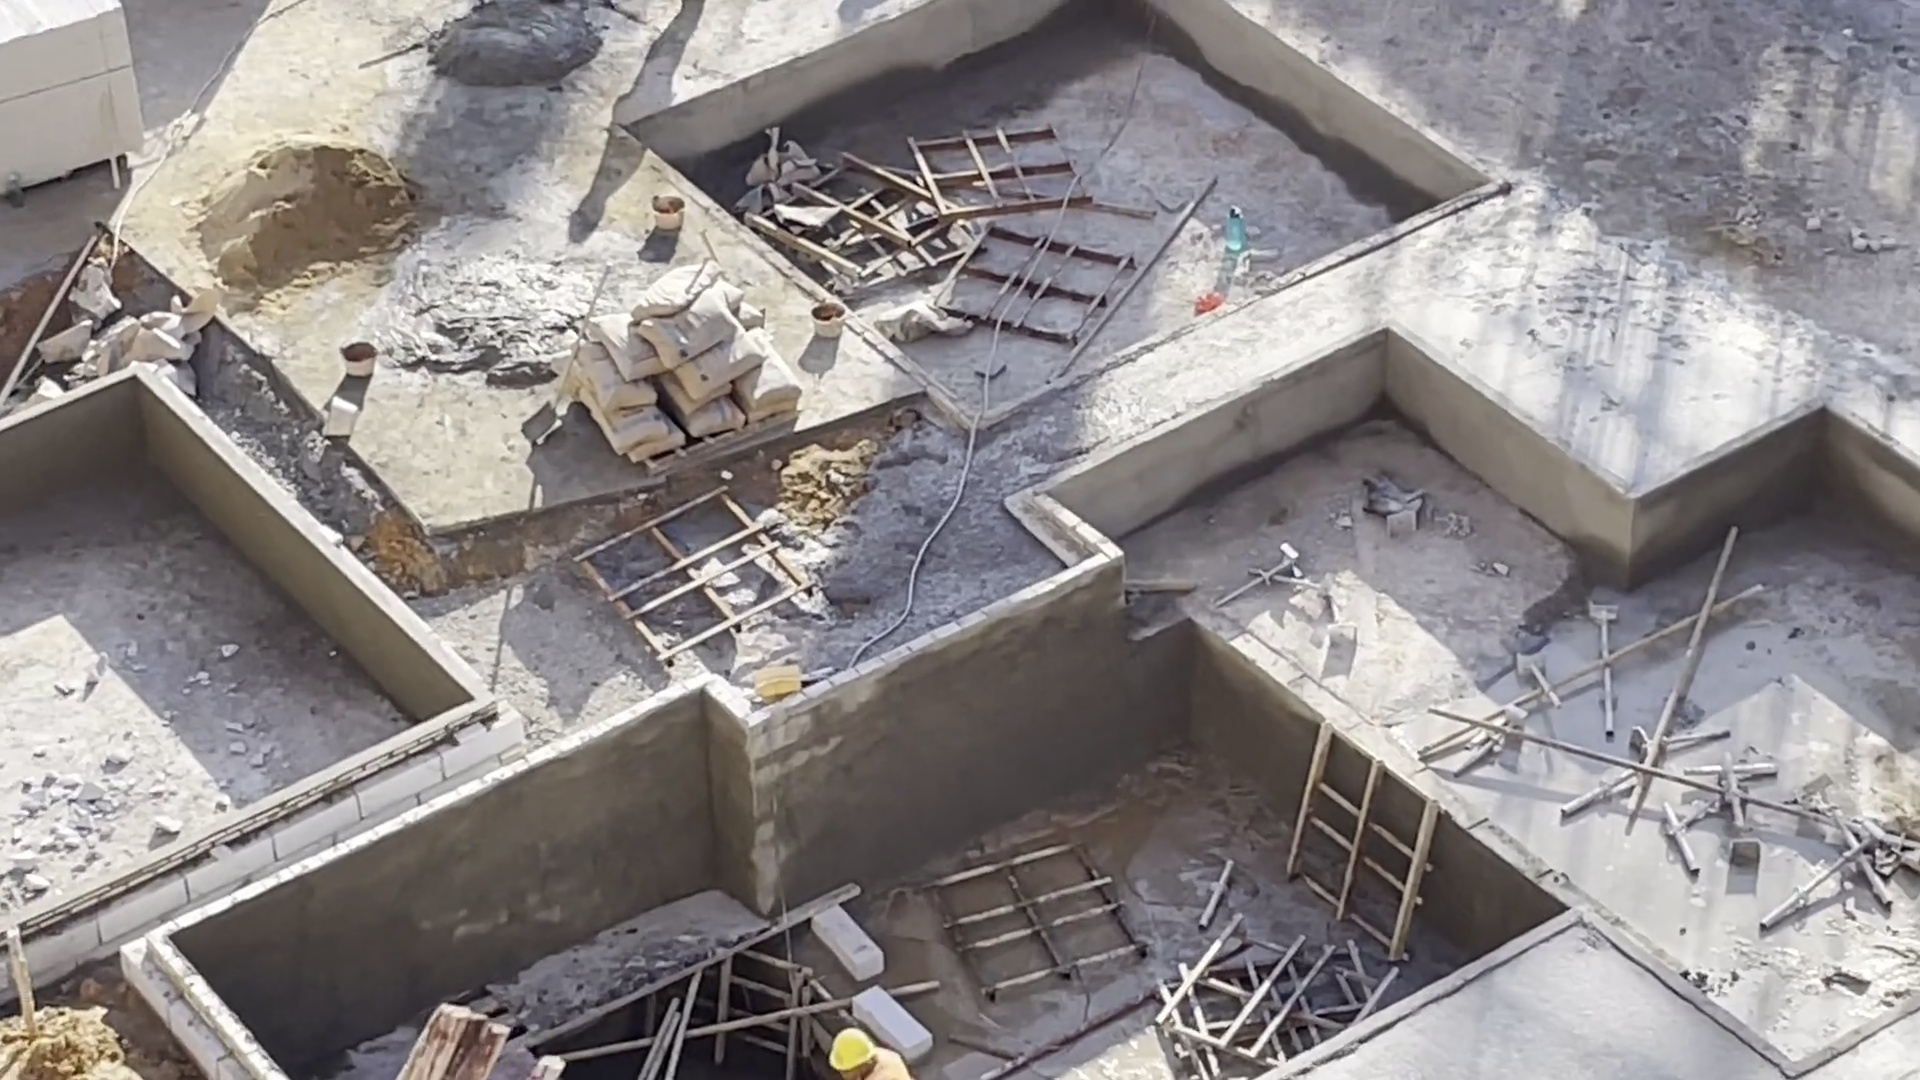helmet: (823, 1020, 894, 1078)
person: (803, 1030, 907, 1080)
